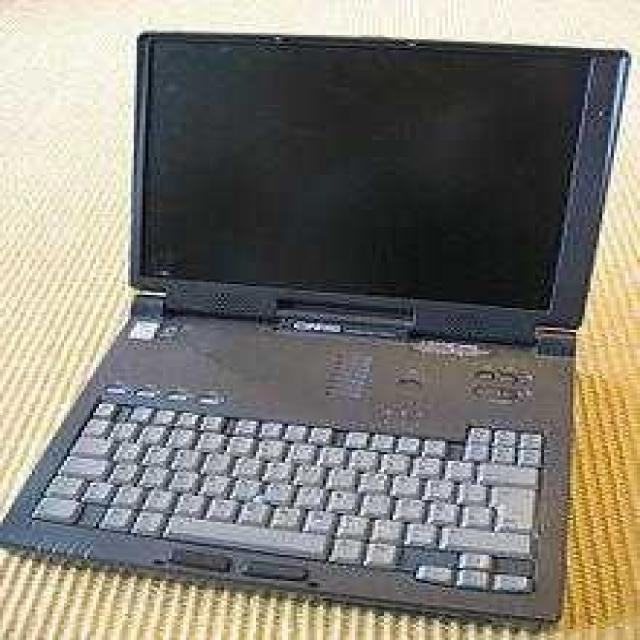laptop: (20, 41, 640, 610)
